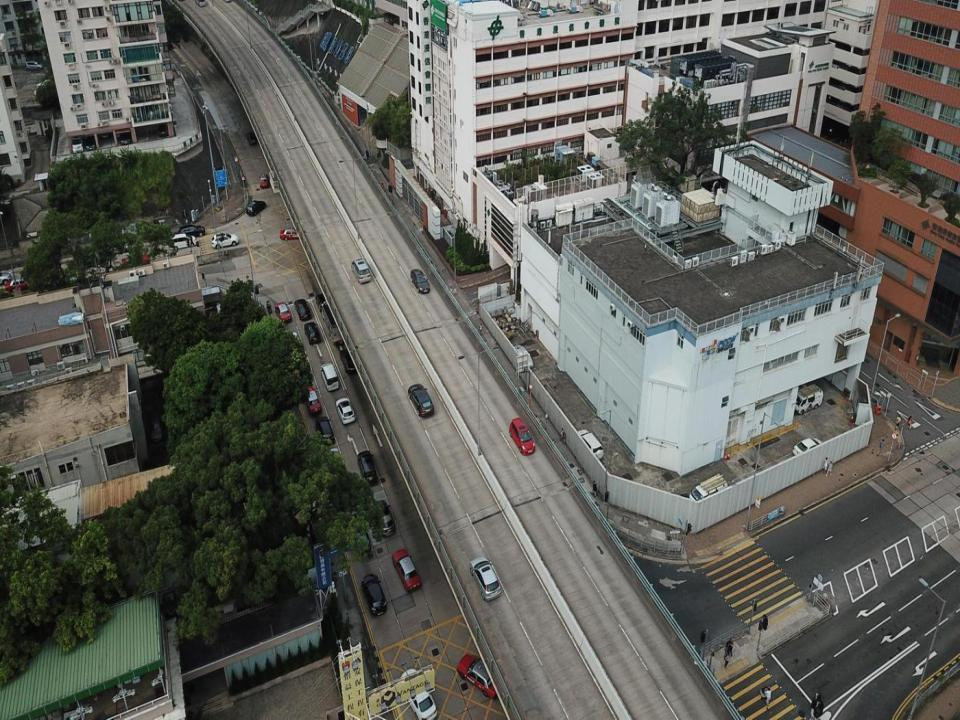car: (456, 653, 503, 698), (400, 668, 438, 719), (471, 556, 501, 600), (391, 548, 421, 591), (361, 572, 387, 617), (510, 419, 536, 455), (406, 383, 432, 417), (372, 500, 395, 538), (793, 438, 822, 458), (166, 232, 197, 250), (337, 396, 355, 426), (340, 346, 359, 374), (303, 387, 322, 414), (410, 269, 430, 294), (211, 232, 240, 249), (4, 276, 34, 291), (123, 253, 151, 269), (303, 320, 321, 344), (294, 298, 312, 321), (275, 301, 292, 325), (280, 227, 306, 242), (178, 225, 205, 239), (248, 200, 268, 216), (245, 130, 258, 145), (259, 172, 268, 189)
truck: (323, 304, 347, 344)
van: (689, 474, 729, 510), (792, 384, 824, 416), (577, 430, 604, 462), (358, 449, 378, 483), (320, 362, 341, 391), (351, 260, 372, 284), (316, 292, 328, 312)
